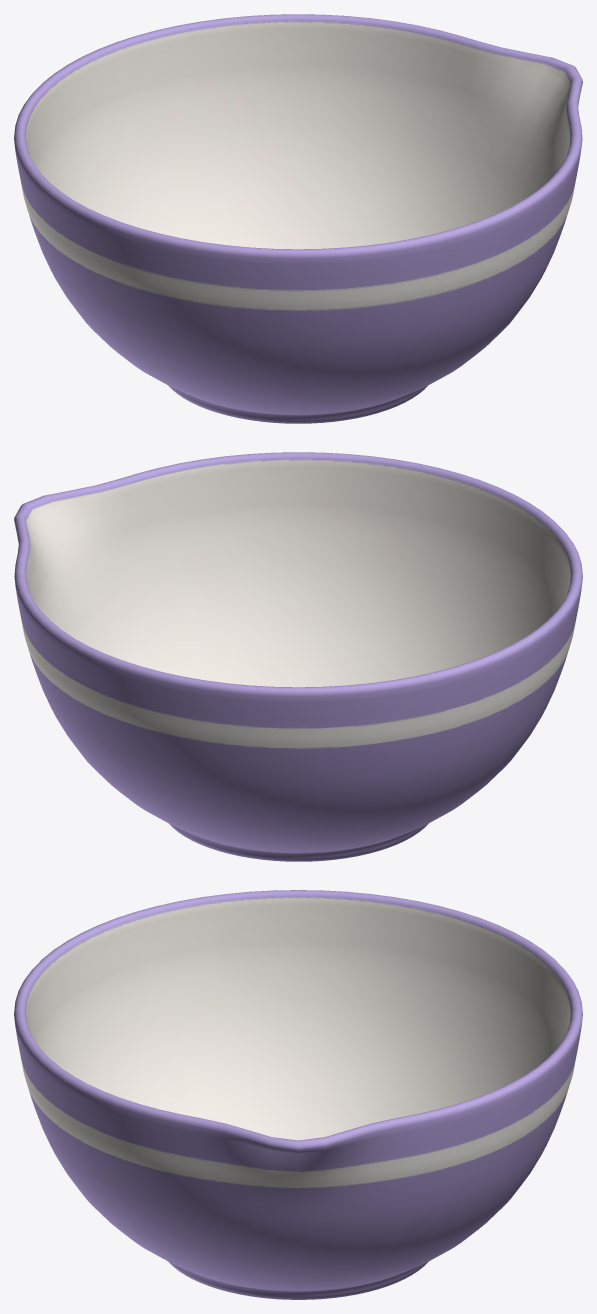
File: petiscos-bowl.glb
3 renders of one model, top to bottom at view 1: azimuth 30°, elevation 25°; view 2: azimuth 150°, elevation 25°; view 3: azimuth 270°, elevation 25°, orthographic.
Parts seen in each view (by area): view 1: mixing-bowl_body; view 2: mixing-bowl_body; view 3: mixing-bowl_body.
Boxes of the visible parts, bbox=[...] form: mixing-bowl_body: bbox=[14, 14, 582, 423]; mixing-bowl_body: bbox=[14, 452, 582, 861]; mixing-bowl_body: bbox=[14, 890, 582, 1299].
Size of the model in its own units: 0.2769 by 0.1183 by 0.26.
Materials: 1 (1 with a texture image).
